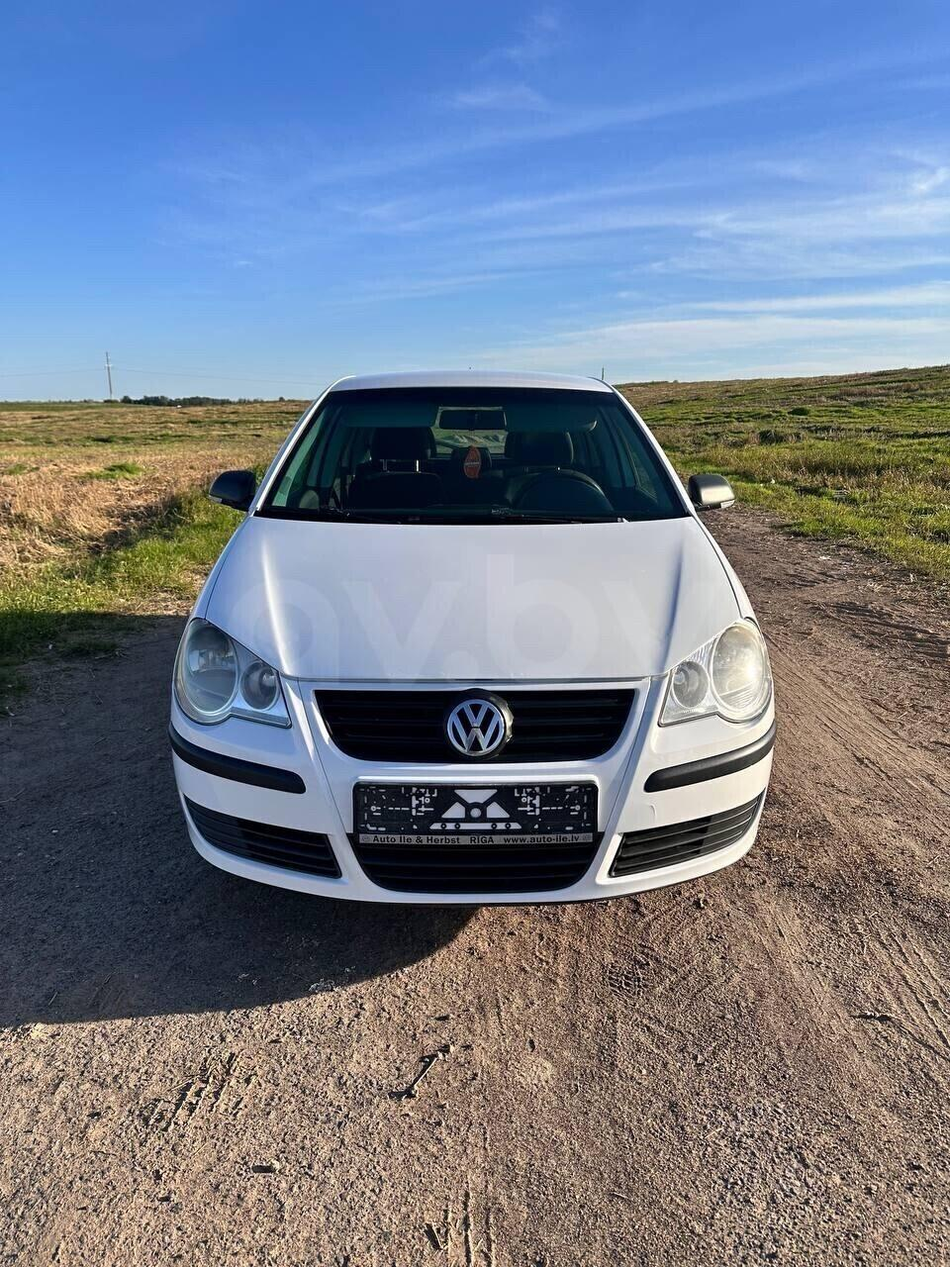Polo_2005-2009: (168, 369, 794, 936)
